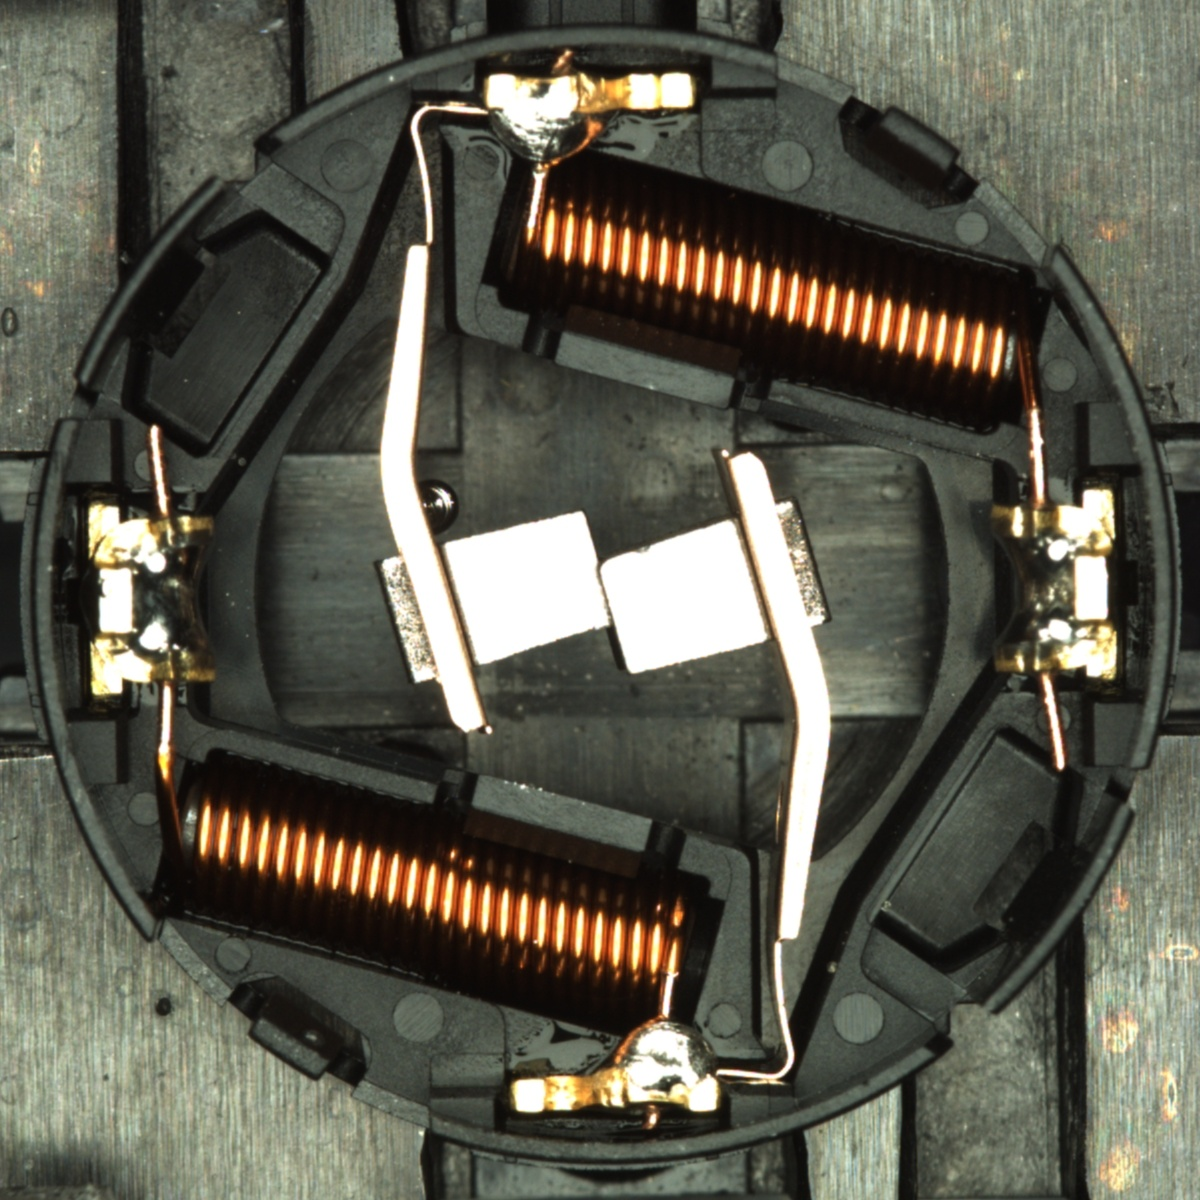1: (258, 55, 487, 279), (716, 953, 945, 1177)
2: (716, 55, 945, 279), (258, 953, 487, 1177)
3: (29, 279, 258, 503), (945, 729, 1175, 953)
4: (258, 279, 487, 503), (716, 729, 945, 953)
5: (487, 167, 716, 391), (487, 841, 716, 1065)
6: (716, 279, 945, 503), (258, 729, 487, 953)
7: (945, 279, 1175, 503), (29, 729, 258, 953)
chau_dien: (81, 498, 222, 699), (984, 486, 1124, 686)
hat_chi: (415, 479, 460, 537)
tay_choi: (481, 70, 700, 173), (509, 1015, 722, 1116)
thanh_de: (955, 786, 1142, 1031), (60, 164, 245, 404)
